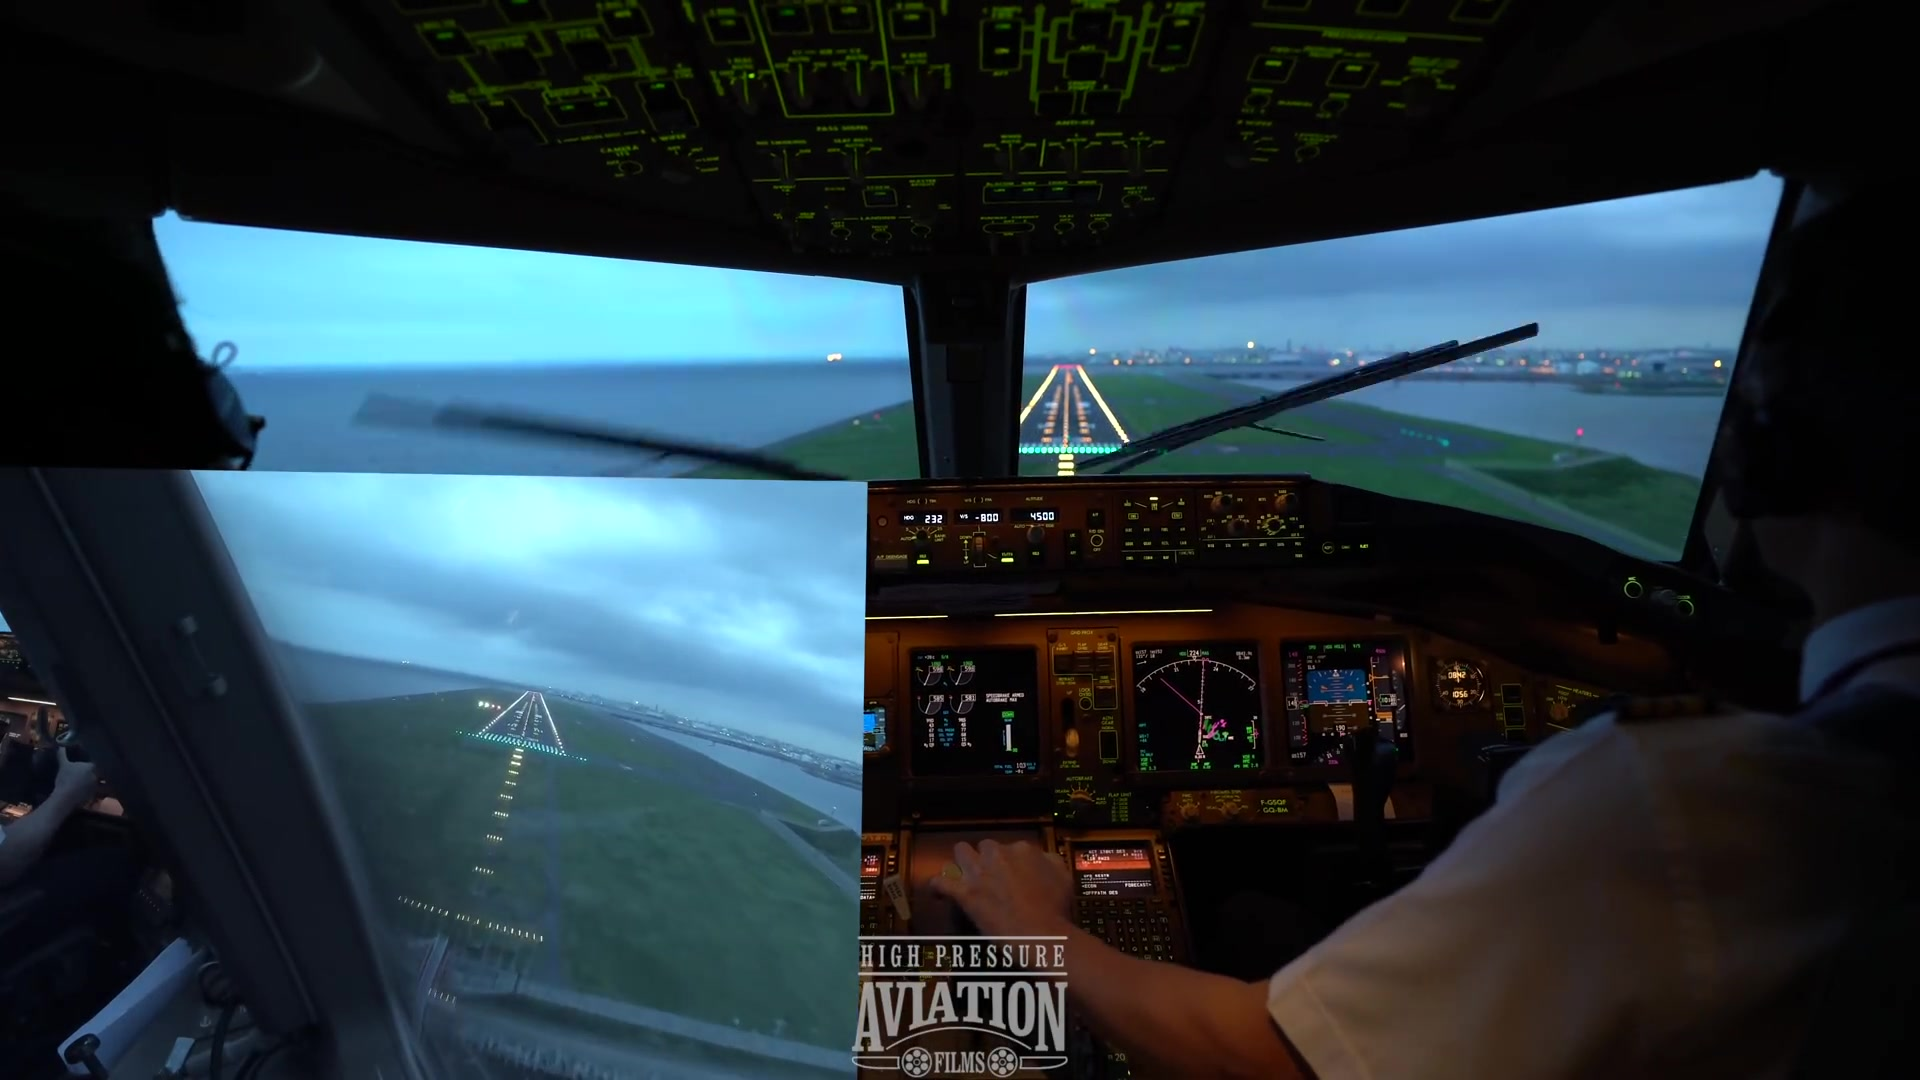entrance: (483, 733, 558, 756)
runway: (1007, 361, 1133, 455), (472, 690, 570, 760)
